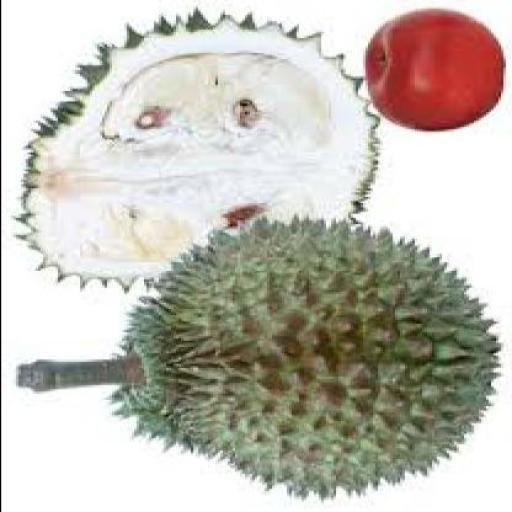biodegradable: (12, 214, 495, 499), (8, 2, 376, 292), (362, 6, 500, 129)
